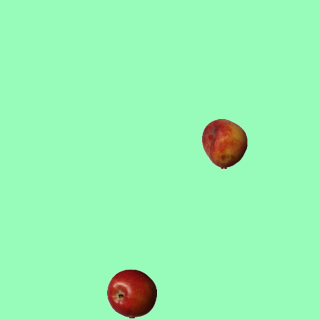Apple Braeburn: (106, 268, 156, 318)
Peach: (199, 118, 249, 168)
